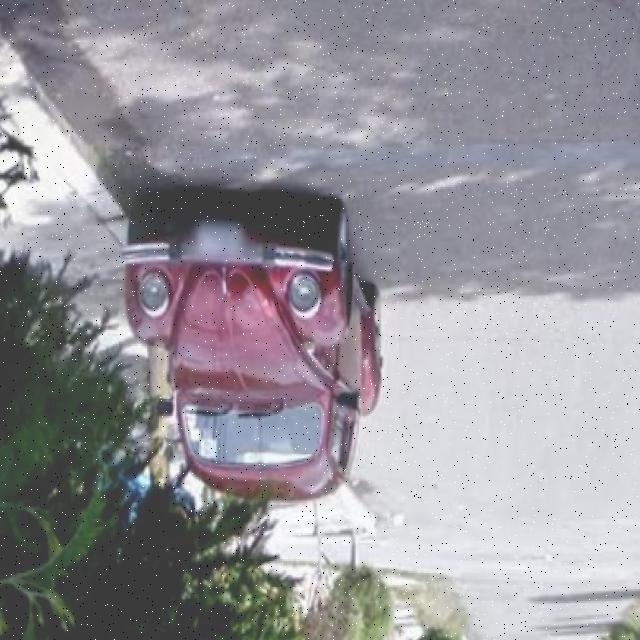car: (112, 192, 391, 498)
